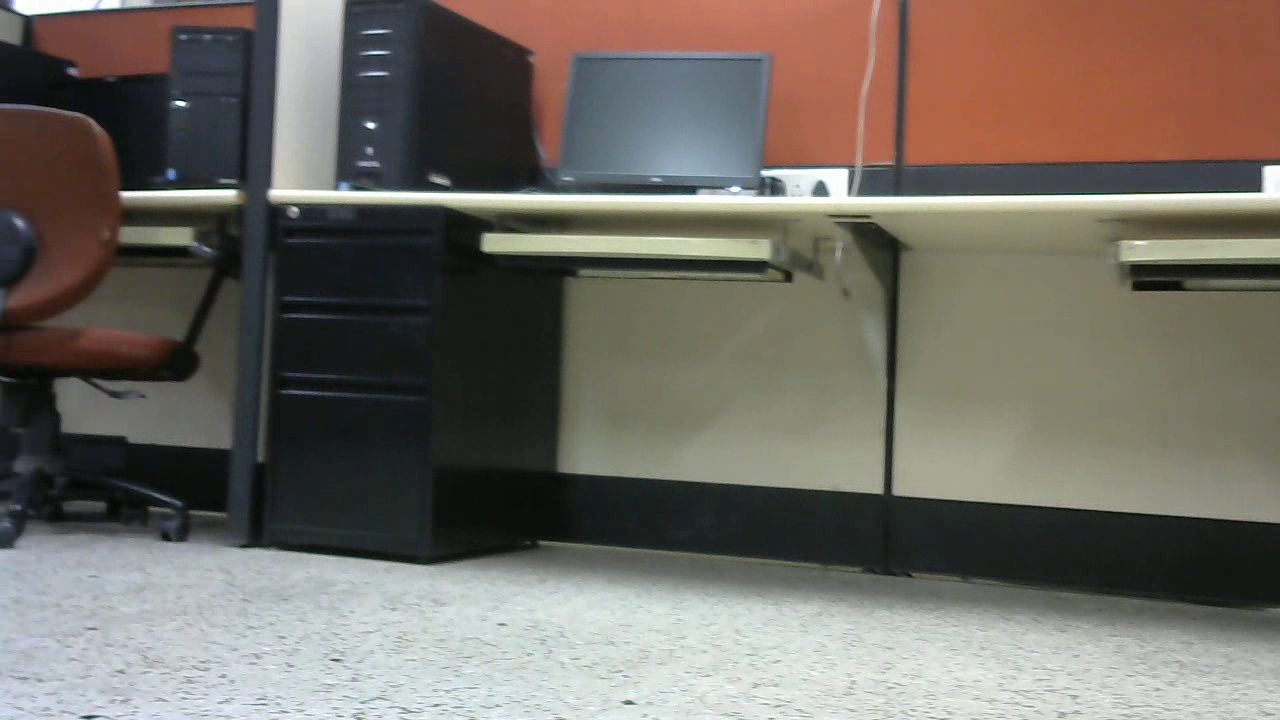chair: (1, 102, 240, 550)
